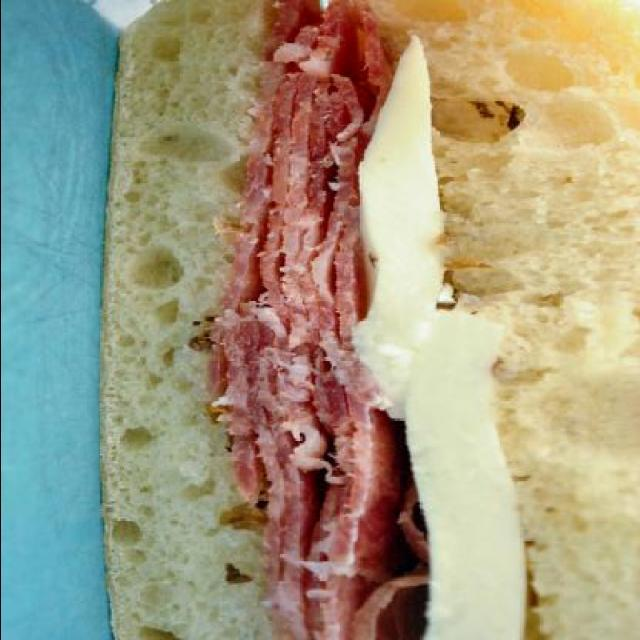Sandwich: (97, 0, 640, 640)
